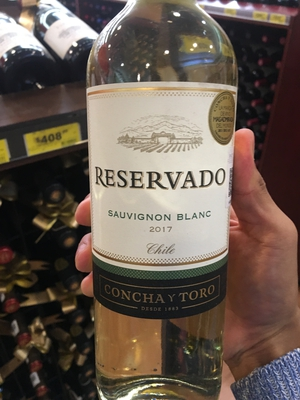reservado sauvignon blanc: (87, 13, 236, 400)
